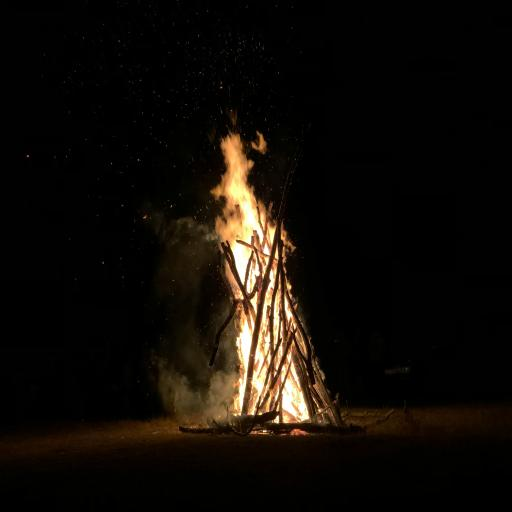campfire: (182, 84, 375, 464)
